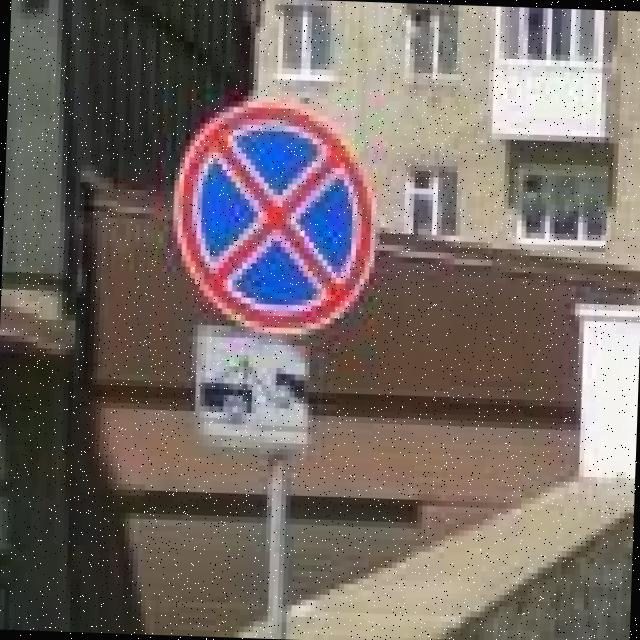Zakaz zatrzymywania sie: (168, 99, 380, 342)
